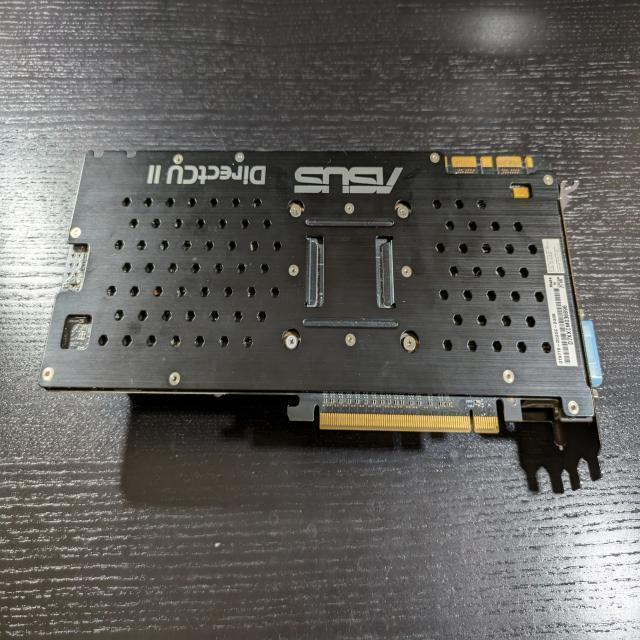GPU: (36, 141, 602, 436)
